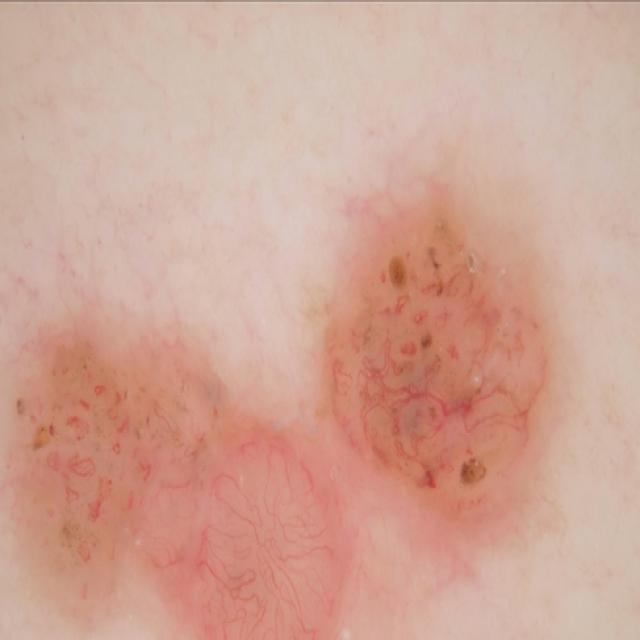Carcinoma: (28, 296, 325, 640), (328, 182, 569, 501)
